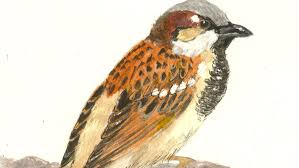hsparrow: (58, 1, 257, 168)
